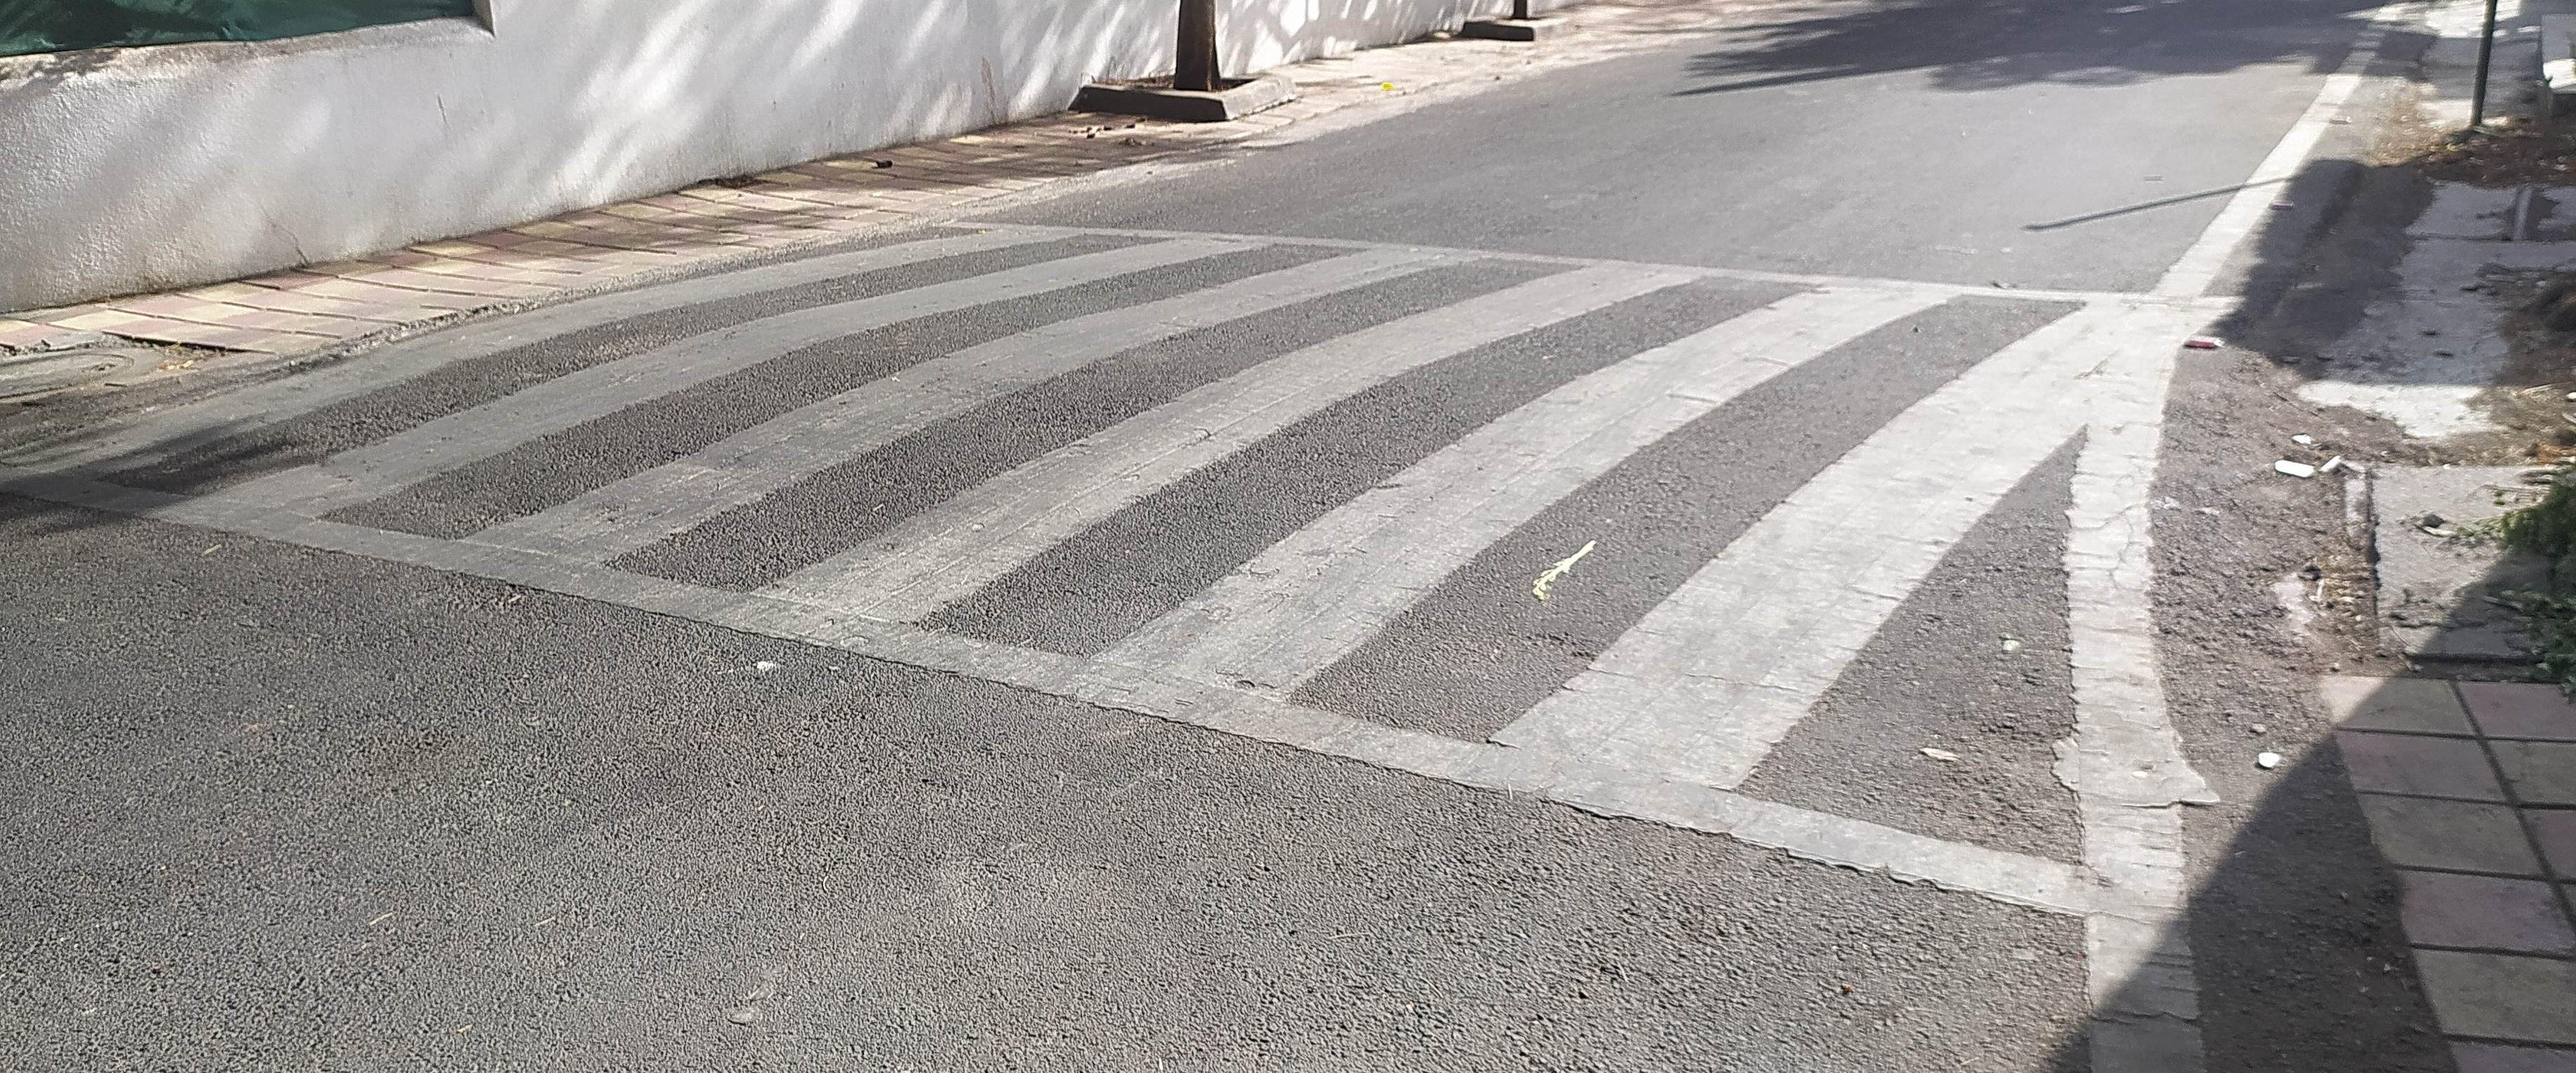speed-bump: (21, 209, 2264, 905)
